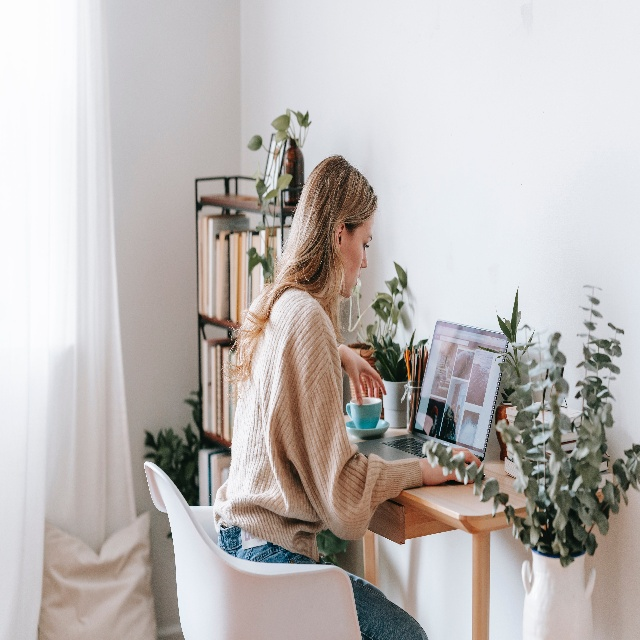Sin_guantes: (338, 344, 387, 407), (421, 447, 482, 486)
